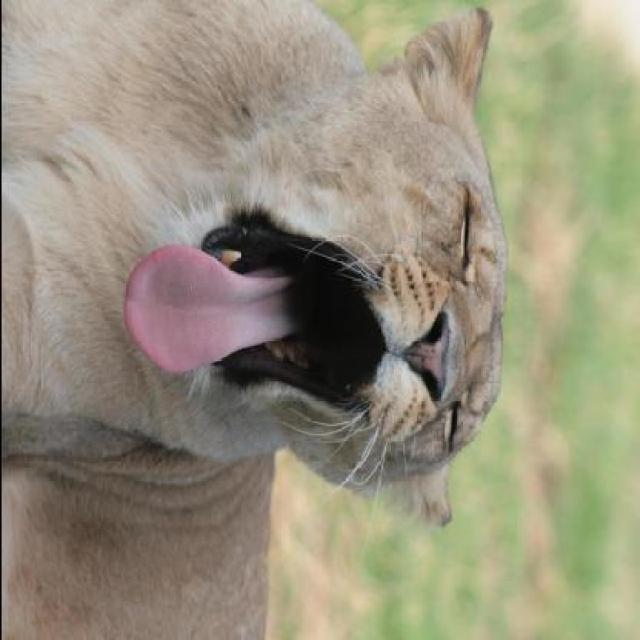Lion: (2, 9, 566, 609)
